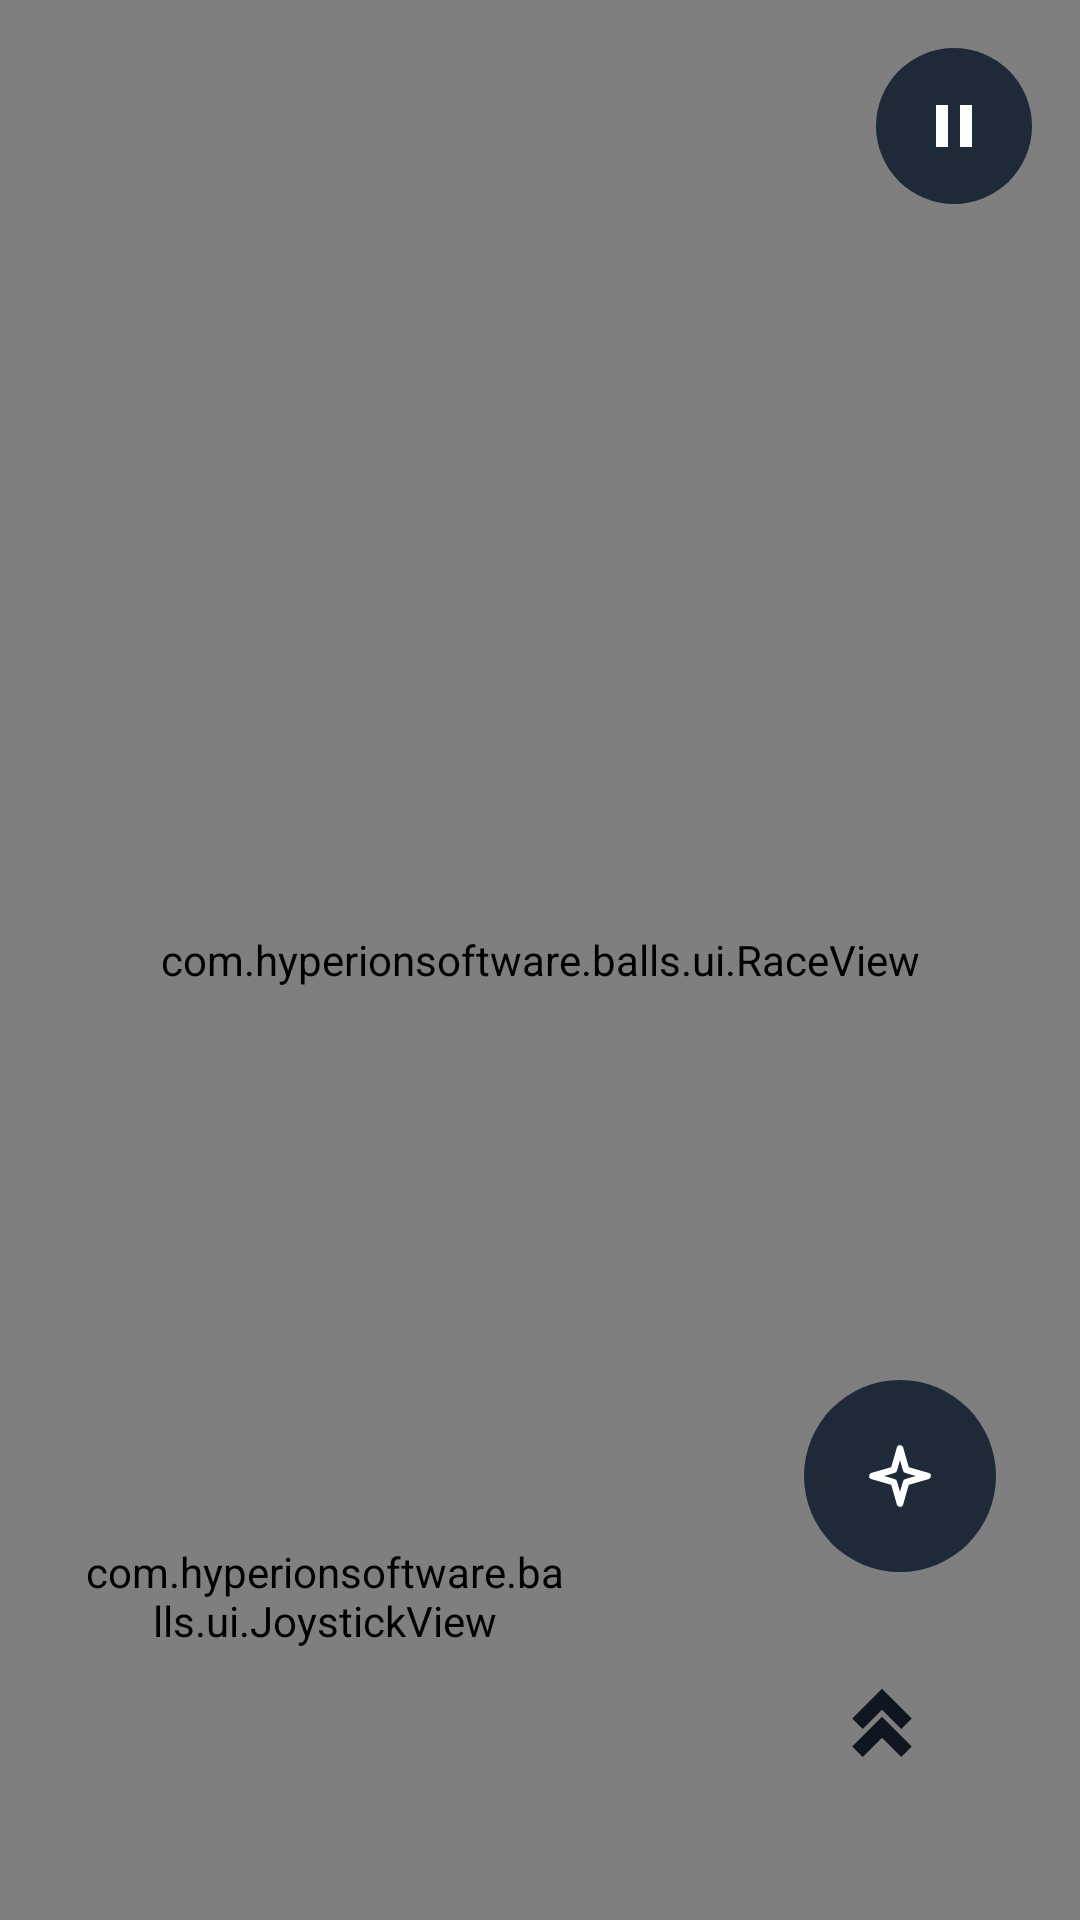

Locate icon controls on the screen. Image size 1080×1920, boxes as (x1, y1, x2, y2).
Paused: (876, 48, 1032, 204)
Speed boost: (852, 1689, 912, 1757)
